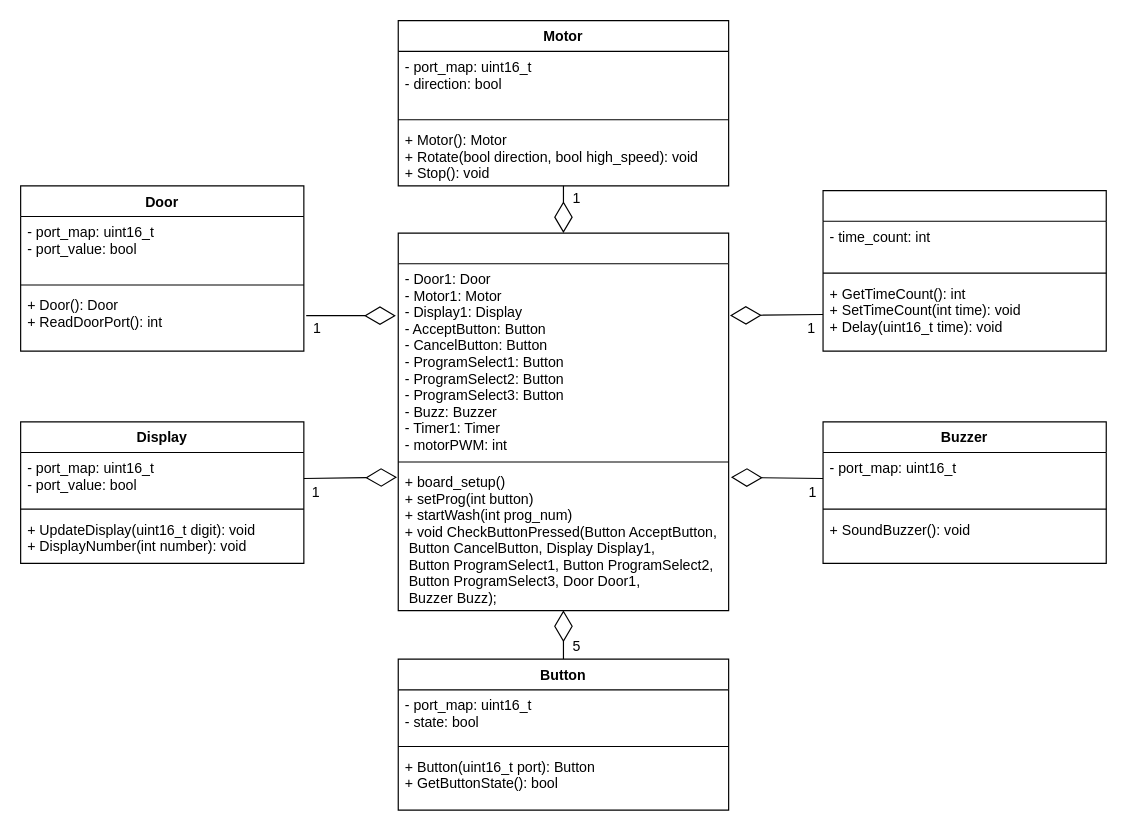
The diagram is 1127 pixels wide and 834 high, and some of its shapes have lost their labels. Each missing label, with the box of its shape:
Timer: (822, 189, 1106, 351)
WashingMachine: (397, 232, 729, 611)
